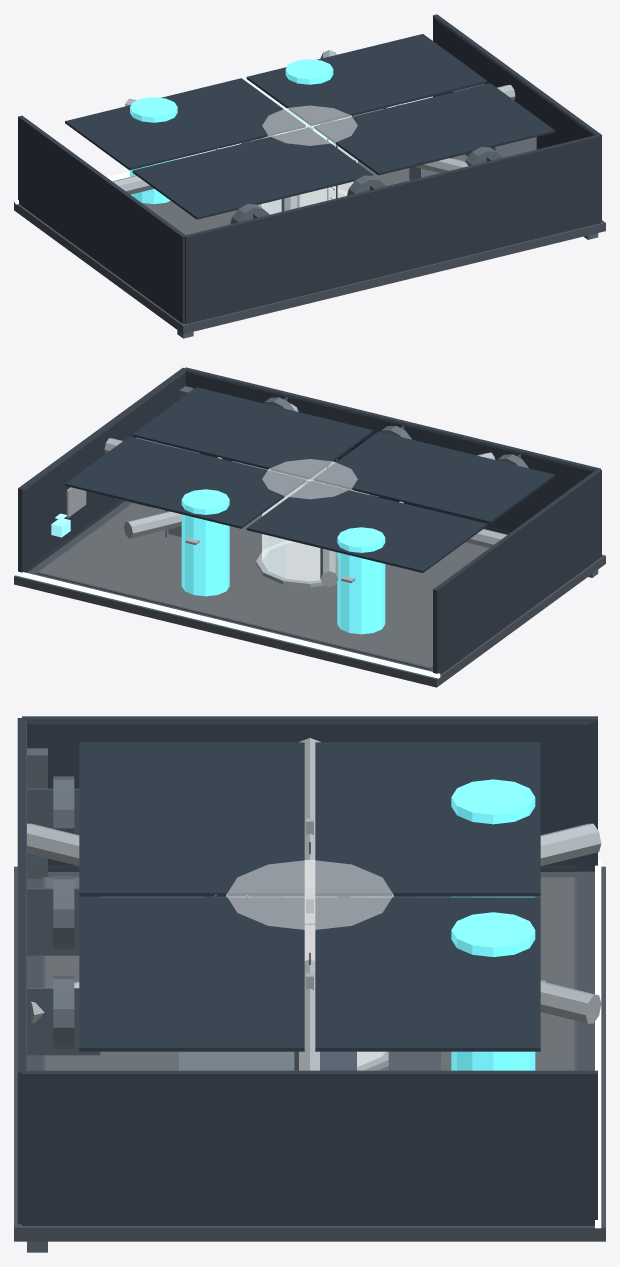
Rendered from floor-air.glb.
The picture shows the model from 3 angles, top to bottom: view 1: azimuth 30°, elevation 25°; view 2: azimuth 150°, elevation 25°; view 3: azimuth 270°, elevation 25°; orthographic projection. The views are drawn at different scales.
Visible parts, largest first — view 1: WallBack_air, WallL_air, Coffer_1_-1_air, Coffer_-1_-1_air, Coffer_-1_1_air, Coffer_1_1_air, Slab_air, WallR_air, LungCore, AirFloor, Scrubber0, Scrubber1 (+6 smaller); view 2: AirFloor, WallL_air, Coffer_-1_-1_air, Coffer_1_-1_air, Coffer_-1_1_air, Coffer_1_1_air, WallR_air, WallBack_air, Slab_air, LungCore, Scrubber1, Scrubber0 (+10 smaller); view 3: WallR_air, Coffer_1_-1_air, Coffer_-1_-1_air, Coffer_1_1_air, Coffer_-1_1_air, WallL_air, Slab_air, AirFloor, LungCore, Scrubber1, WallBack_air, Scrubber0 (+20 smaller).
Boxes of the visible parts, <box> form: WallBack_air: <box>184,134,600,324</box>; WallL_air: <box>18,115,185,323</box>; Coffer_1_-1_air: <box>314,83,554,175</box>; Coffer_-1_-1_air: <box>132,127,373,219</box>; Coffer_-1_1_air: <box>65,78,305,170</box>; Coffer_1_1_air: <box>246,34,487,125</box>; Slab_air: <box>14,202,605,334</box>; WallR_air: <box>433,14,601,221</box>; LungCore: <box>262,105,357,214</box>; AirFloor: <box>142,143,467,234</box>; Scrubber0: <box>130,97,177,204</box>; Scrubber1: <box>285,59,333,143</box>; AirFloor: <box>38,488,489,667</box>; WallL_air: <box>433,469,601,674</box>; Coffer_-1_-1_air: <box>314,431,554,523</box>; Coffer_1_-1_air: <box>132,387,373,479</box>; Coffer_-1_1_air: <box>246,481,487,572</box>; Coffer_1_1_air: <box>65,436,305,528</box>; WallR_air: <box>18,368,185,572</box>; WallBack_air: <box>184,367,600,532</box>; Slab_air: <box>14,485,605,687</box>; LungCore: <box>262,459,357,581</box>; Scrubber1: <box>181,489,229,596</box>; Scrubber0: <box>337,527,385,634</box>; WallR_air: <box>22,1070,597,1225</box>; Coffer_1_-1_air: <box>79,897,304,1051</box>; Coffer_-1_-1_air: <box>79,742,304,896</box>; Coffer_1_1_air: <box>315,897,540,1051</box>; Coffer_-1_1_air: <box>315,742,540,896</box>; WallL_air: <box>22,716,597,871</box>; Slab_air: <box>14,866,605,1241</box>; AirFloor: <box>45,877,574,1070</box>; LungCore: <box>226,859,393,1066</box>; Scrubber1: <box>451,912,535,1070</box>; WallBack_air: <box>17,718,25,1224</box>; Scrubber0: <box>451,779,535,897</box>.
Size of the model in its own units: 16.32 by 4 by 11.3.
